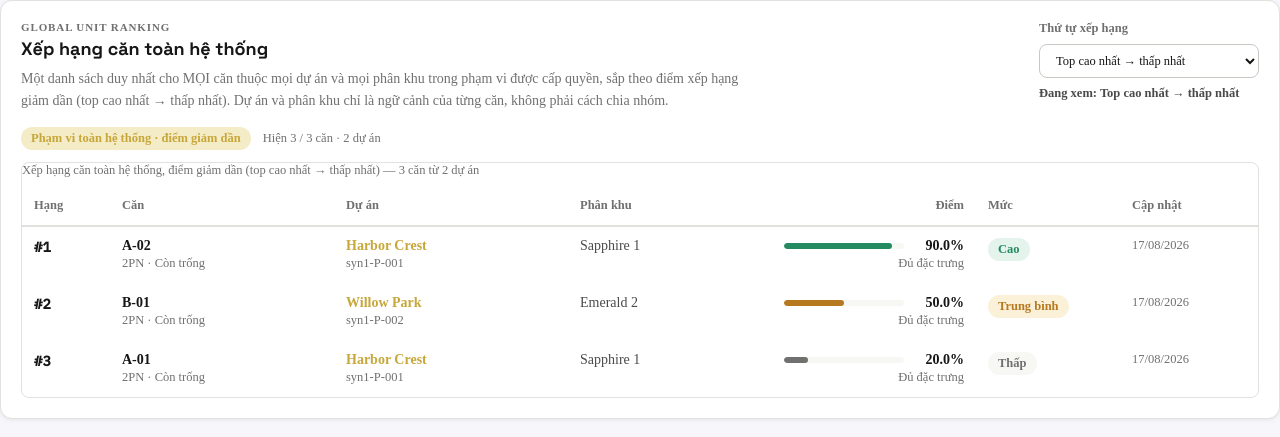
Test: GlobalUnitRanking — bảng xếp hạng căn toàn cục › 5b. control đổi sang chiều thấp nhất trước ngay lập tức
The image size is (1280, 437).
Select "Top thấp nhất → cao nhất" in the dropdown labelled "Thứ tự xếp hạng" at (1149, 61), box [1039,44,1259,78]
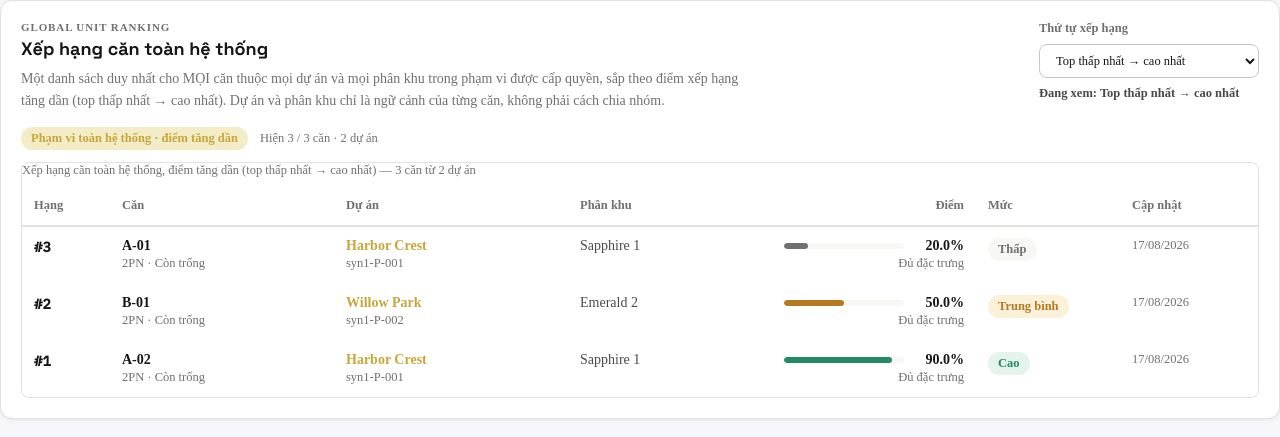
Now the text "Đang xem: Top thấp nhất → cao nhất" is shown, box [1039,86,1259,101]
